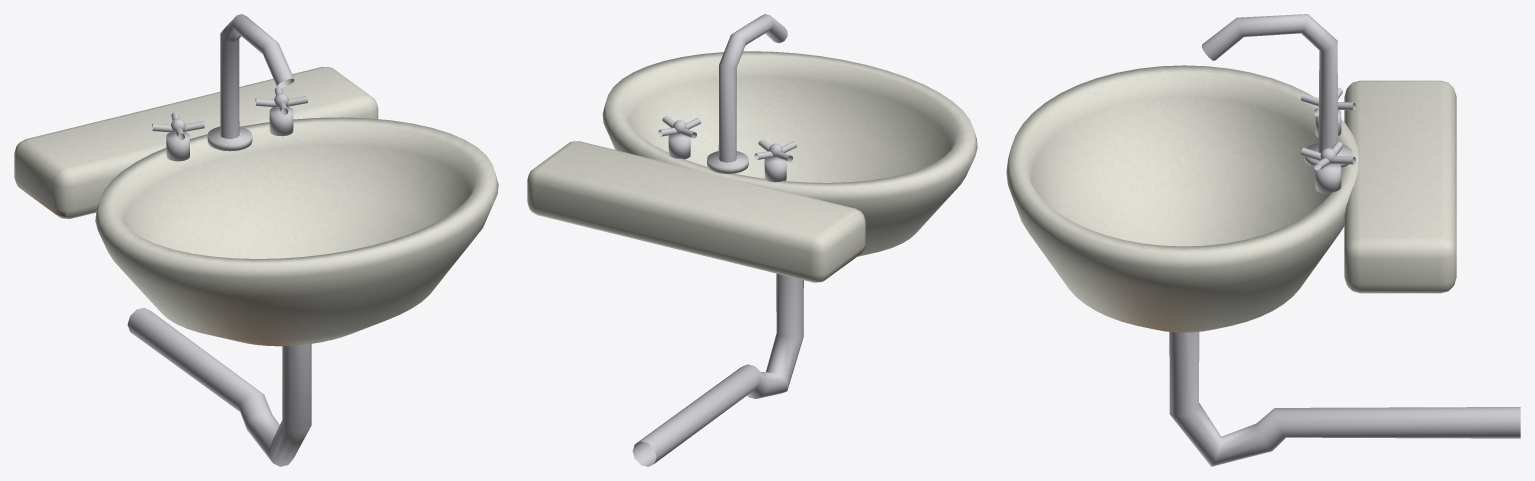
File: washbasin.glb
3 renders of one model, left to right at view 1: azimuth 30°, elevation 25°; view 2: azimuth 150°, elevation 25°; view 3: azimuth 270°, elevation 25°, orthographic. The views are drawn at different scales.
Visible parts, largest first — view 1: lathe, Würfel, tube.009, tube, Zylinder, Zylinder.002, Zylinder.001; view 2: lathe, Würfel, tube.009, tube, Zylinder, Zylinder.002, Zylinder.001; view 3: lathe, Würfel, tube.009, tube, Zylinder.002.
Part boxes in pixels (x1,y1,x2,y2): lathe: (95, 117, 498, 346); Würfel: (14, 66, 378, 218); tube.009: (127, 307, 311, 466); tube: (220, 14, 294, 138); Zylinder: (207, 126, 252, 151); Zylinder.002: (269, 107, 293, 136); Zylinder.001: (166, 132, 189, 161); lathe: (602, 51, 977, 256); Würfel: (527, 141, 865, 282); tube.009: (632, 273, 803, 466); tube: (718, 14, 787, 162); Zylinder: (707, 151, 748, 173); Zylinder.002: (668, 134, 690, 159); Zylinder.001: (764, 157, 786, 182); lathe: (1006, 65, 1358, 332); Würfel: (1344, 80, 1456, 293); tube.009: (1169, 332, 1520, 466); tube: (1202, 14, 1338, 152); Zylinder.002: (1315, 163, 1341, 193).
Bounding box in the file's own units: 0.57 × 0.6196 × 0.6423.
Materials: 3 (1 with a texture image).
